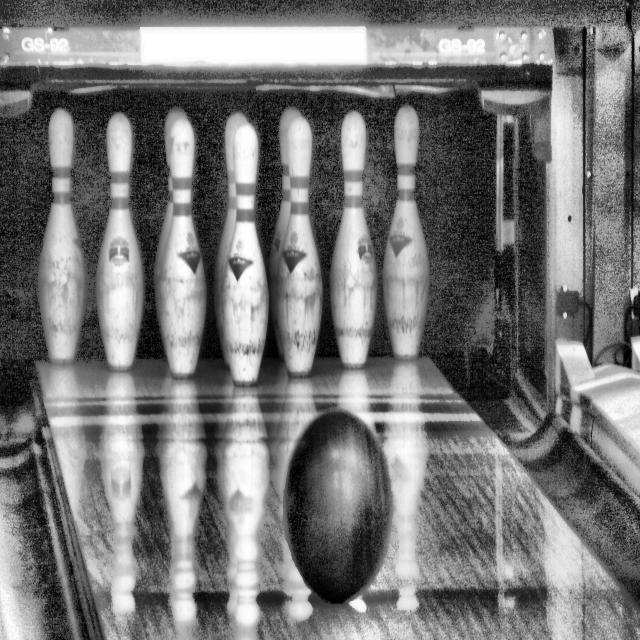bowling-ball: (285, 410, 392, 602)
bowling-pins: (221, 122, 269, 384), (275, 116, 323, 376), (159, 117, 206, 377), (96, 112, 143, 369), (330, 110, 377, 367), (38, 109, 84, 362), (384, 105, 429, 358), (214, 111, 247, 366), (268, 106, 300, 357), (154, 107, 186, 319)
